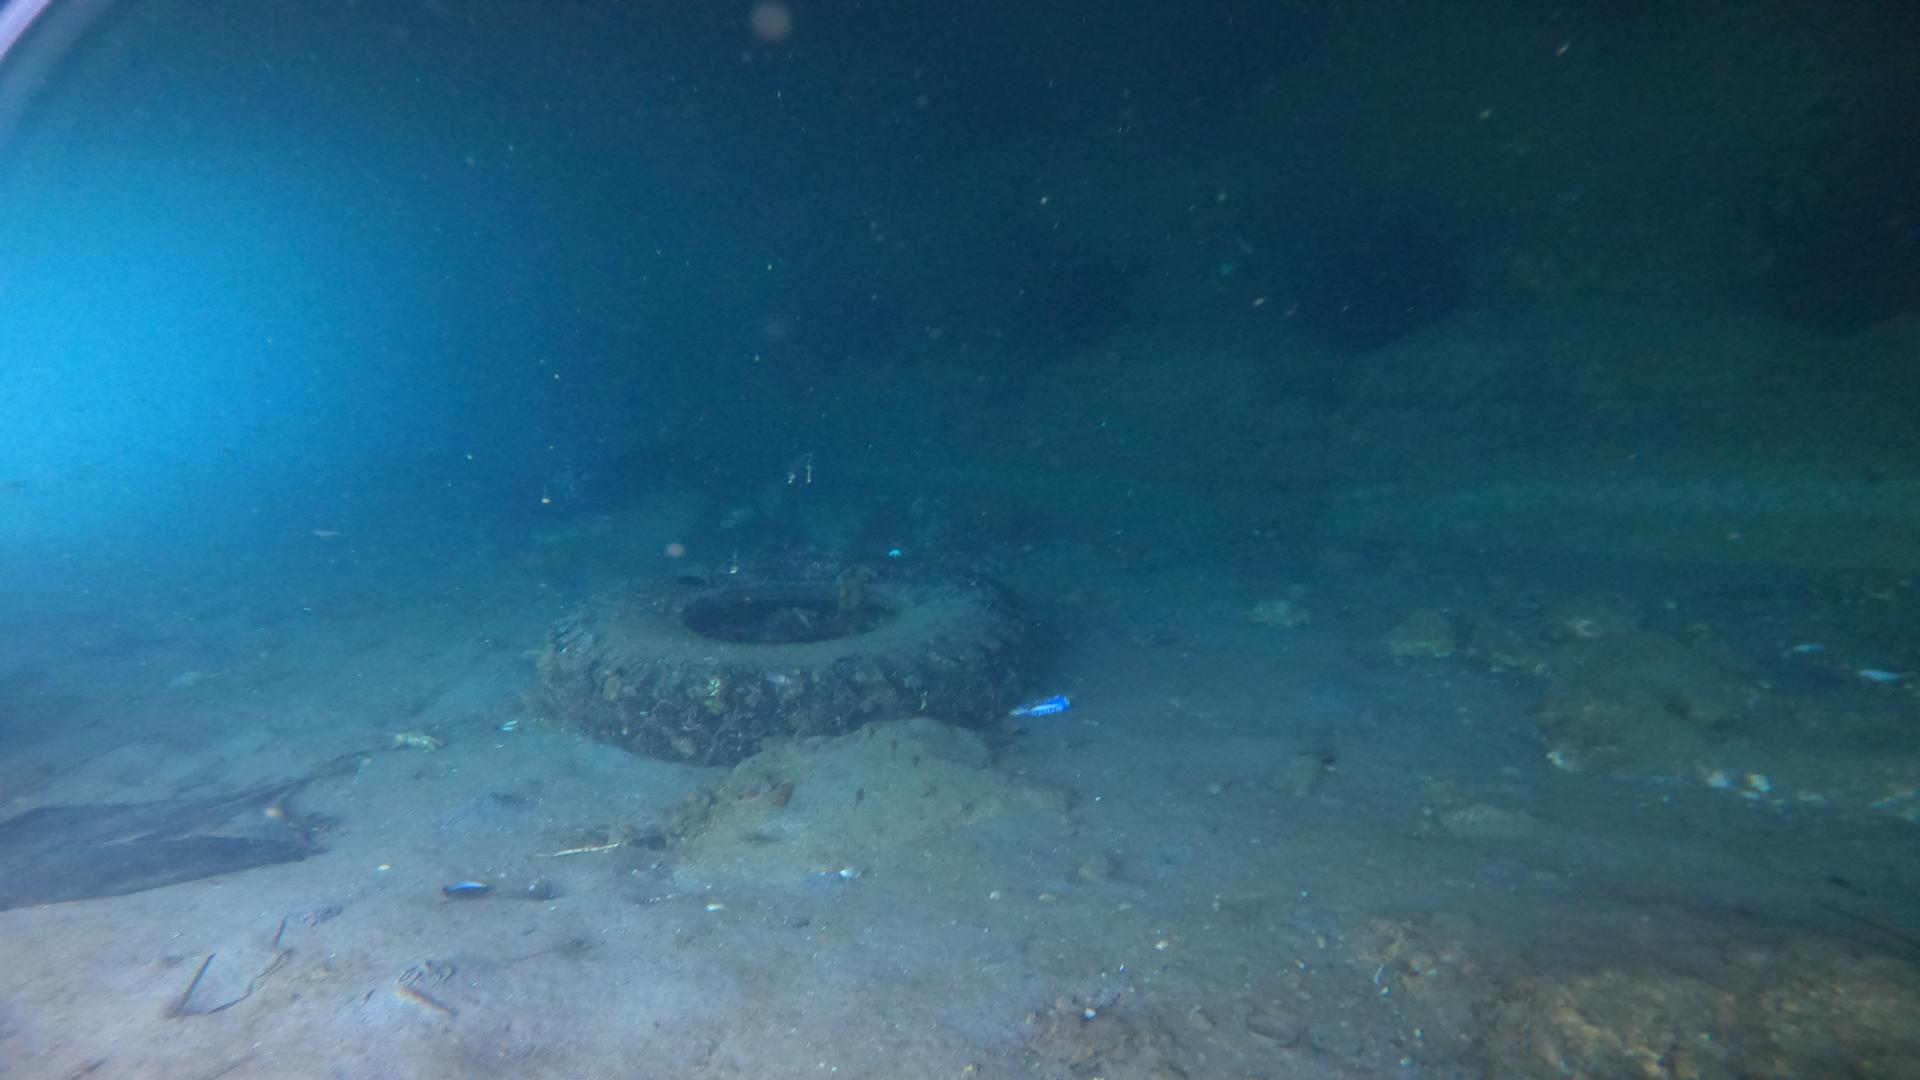tire: (542, 547, 1033, 765)
